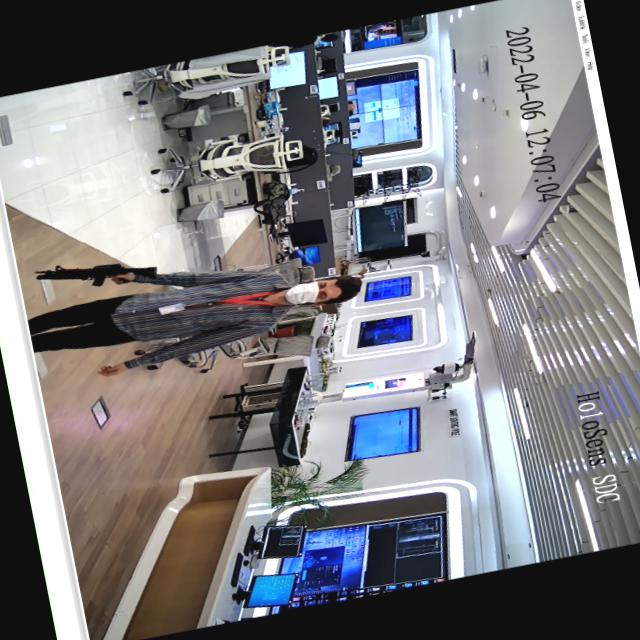long weapon: (20, 237, 176, 313)
